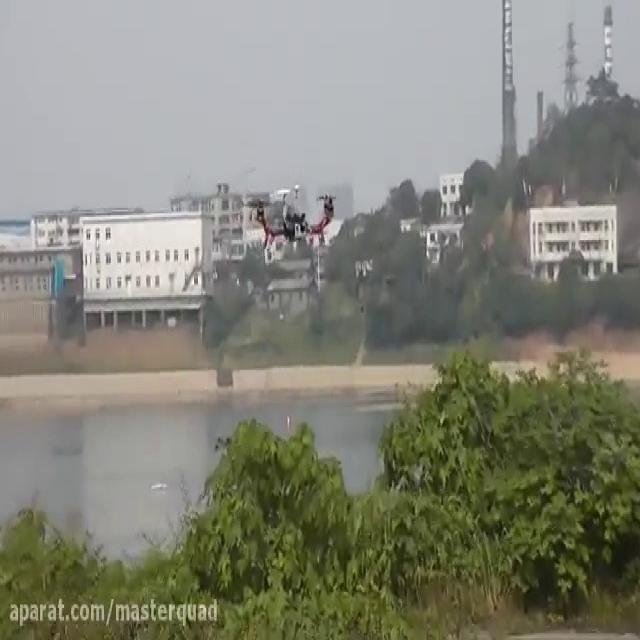drone: (242, 183, 344, 253)
